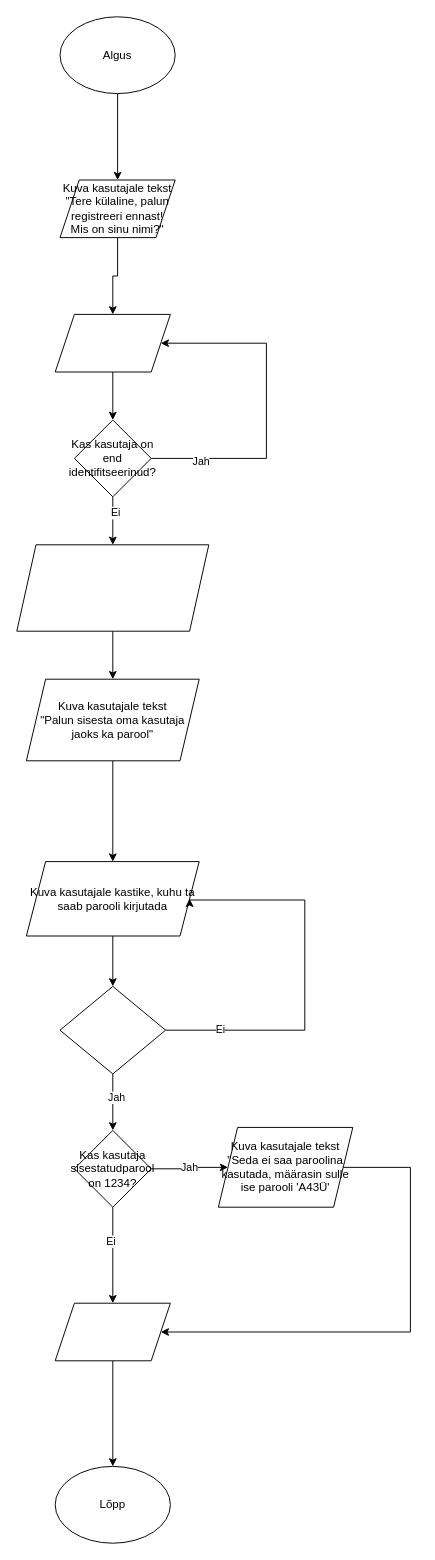
This 435x1560 diagram has some shape labels left out. The shapes that lost their labels are listed below. From the top down, each one's centre as x and y in pixels, then its label:
the point at 112,342: Oota, kuniks kasutaja kirjutab oma nime
the point at 112,587: Kasutaja ei sisestanud nime, annan ise nime - NimetuKasutaja
the point at 112,1029: Kas kasutaja on sisestanud parooli?
the point at 112,1331: Kuva kasutajale tekst "Aitäh nimetuKasutaja, olete registreeritud "
